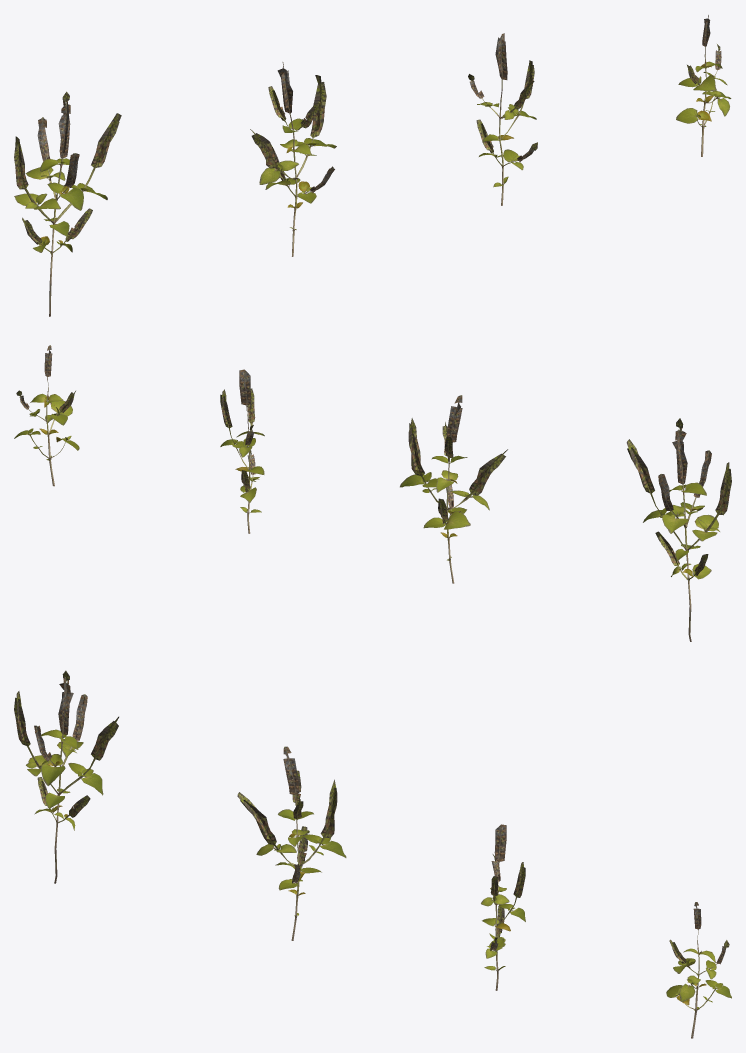
Rendered from shrub_03.glb.
3 renders of one model, top to bottom at view 1: azimuth 30°, elevation 25°; view 2: azimuth 150°, elevation 25°; view 3: azimuth 330°, elevation 25°, orthographic. The views are drawn at different scales.
Parts seen in each view (by area): view 1: shrub_03_a, shrub_03_b, shrub_03_c, shrub_03_d; view 2: shrub_03_a, shrub_03_b, shrub_03_c, shrub_03_d; view 3: shrub_03_a, shrub_03_b, shrub_03_c, shrub_03_d.
Part boxes in pixels (<box>): shrub_03_a: <box>14,91,121,316</box>; shrub_03_b: <box>250,62,336,256</box>; shrub_03_c: <box>468,33,537,205</box>; shrub_03_d: <box>676,15,731,156</box>; shrub_03_a: <box>626,418,731,641</box>; shrub_03_b: <box>400,395,507,583</box>; shrub_03_c: <box>220,369,264,533</box>; shrub_03_d: <box>14,345,79,486</box>; shrub_03_a: <box>14,670,118,883</box>; shrub_03_b: <box>237,746,346,940</box>; shrub_03_c: <box>481,824,525,990</box>; shrub_03_d: <box>666,902,731,1038</box>.
Bounding box in the file's own units: 1.37 × 0.4028 × 0.1512.
1 material, 1 textured.
